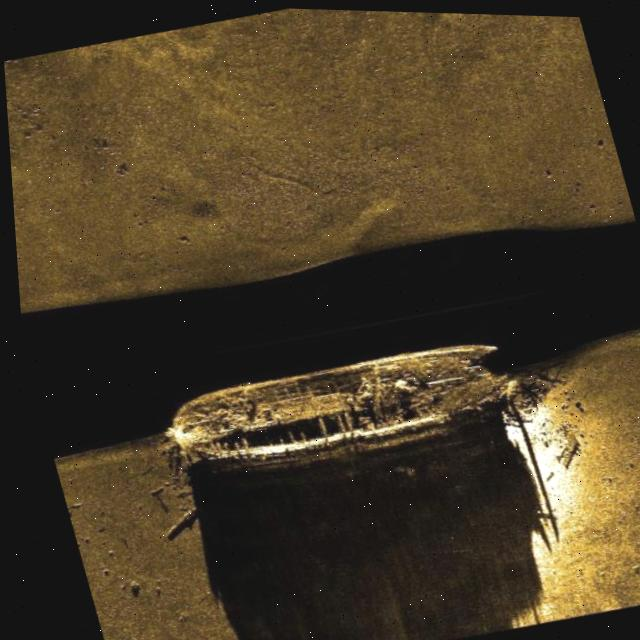shipwreck: (143, 320, 518, 496)
